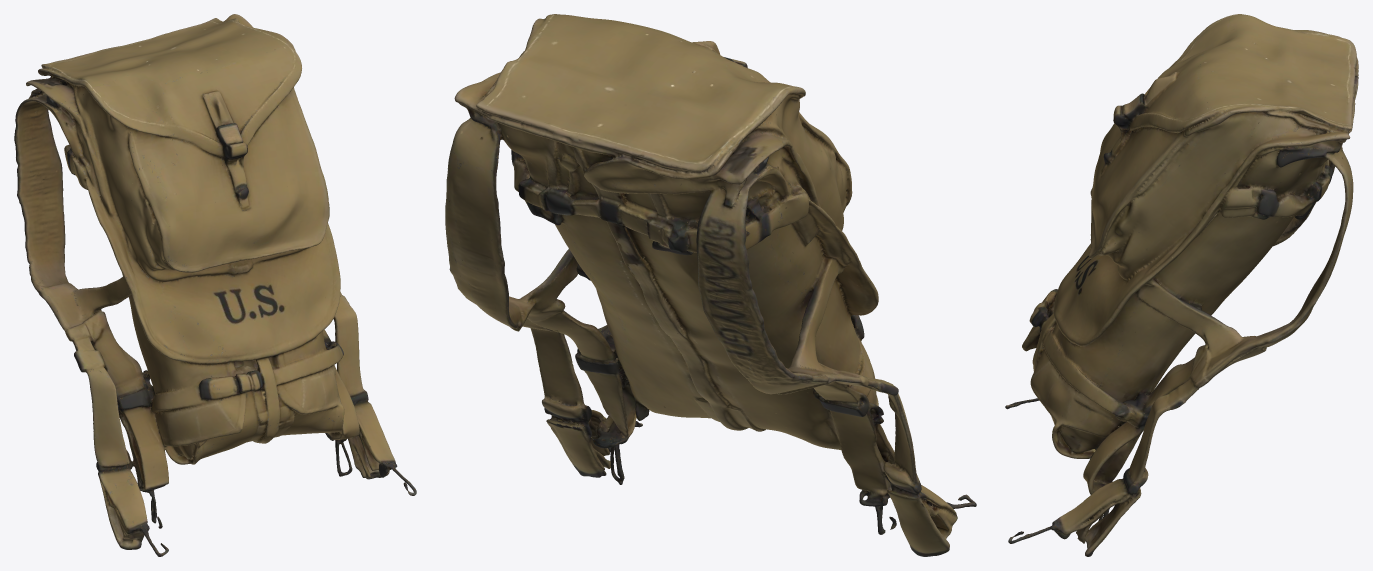
The model's file is Haversack.glb.
3 views of the same model, side by side, from view 1: azimuth 30°, elevation 25°; view 2: azimuth 150°, elevation 25°; view 3: azimuth 270°, elevation 25° (orthographic). The views are drawn at different scales.
Bounding box in the file's own units: 1.43 × 2 × 1.47.
Materials: 1 (1 with a texture image).
